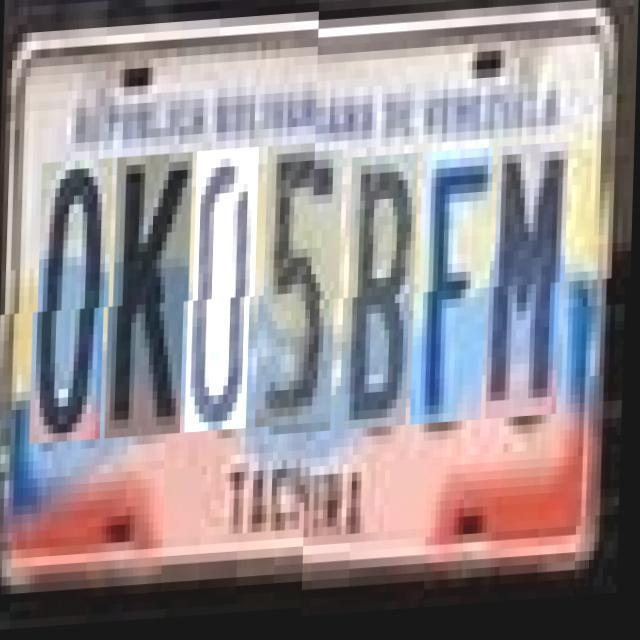0: (192, 160, 260, 444)
5: (262, 155, 344, 440)
B: (347, 160, 419, 436)
F: (418, 155, 494, 431)
K: (112, 164, 194, 448)
M: (493, 150, 570, 427)
O: (36, 168, 114, 453)
